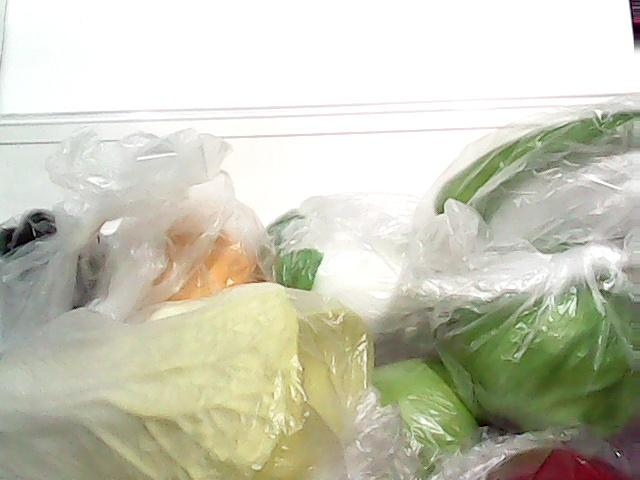apple: (367, 359, 481, 453), (482, 444, 628, 480)
cabbage: (452, 259, 640, 457)
grape: (0, 191, 92, 301)
lemon: (121, 194, 286, 308)
napa cabbage: (2, 276, 368, 480)
pepper: (412, 83, 640, 242)
radish: (268, 192, 437, 336)
